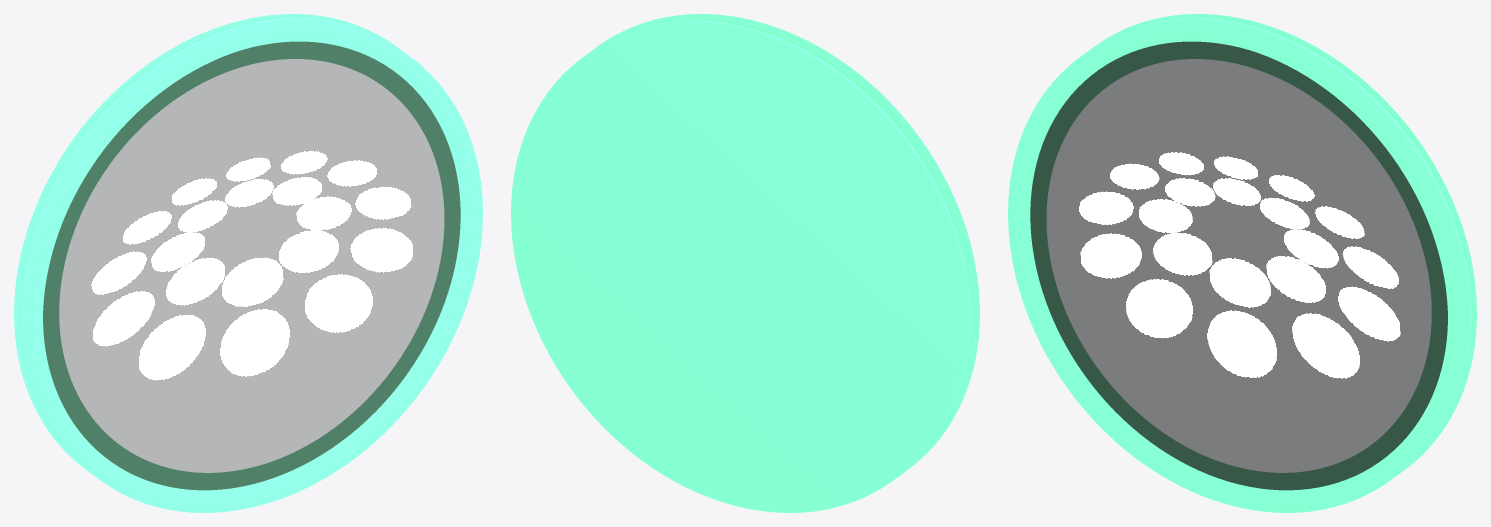
Rendered from 3DPinto.glb.
3 views of the same model, side by side, from view 1: azimuth 30°, elevation 25°; view 2: azimuth 150°, elevation 25°; view 3: azimuth 330°, elevation 25° (orthographic).
Visible parts, largest first — view 1: Cylinder; view 2: Cylinder; view 3: Cylinder.
Boxes of the visible parts, x1,y1,x2,y2 form: Cylinder: (14, 14, 482, 512); Cylinder: (511, 14, 979, 512); Cylinder: (1008, 14, 1476, 512).
Bounding box in the file's own units: 2 × 2 × 0.1092.
